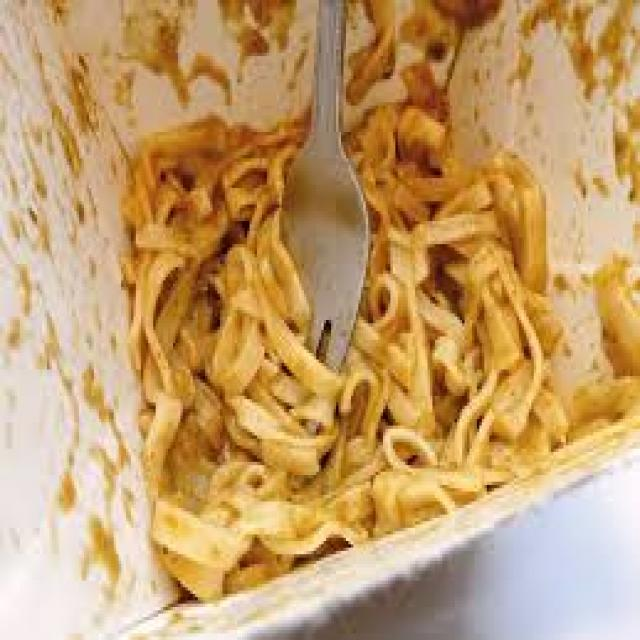organic waste: (368, 59, 638, 522), (121, 112, 279, 597), (247, 337, 408, 554)
